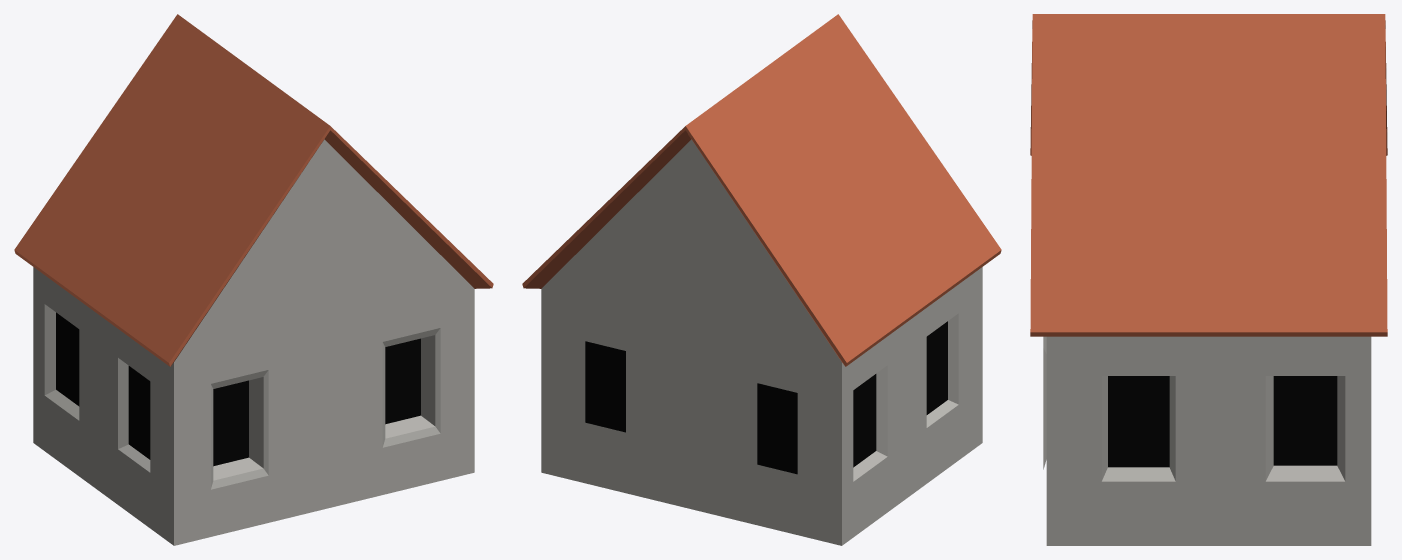
File: house3.fbx
3 renders of one model, left to right at view 1: azimuth 30°, elevation 25°; view 2: azimuth 150°, elevation 25°; view 3: azimuth 270°, elevation 25°, orthographic. The views are drawn at different scales.
Parts seen in each view (by area): view 1: house3; view 2: house3; view 3: house3.
Boxes of the visible parts, box(x1,y1,x2,y2) form: house3: box(14, 14, 493, 545); house3: box(522, 14, 1001, 545); house3: box(1030, 14, 1387, 545).
Size of the model in its own units: 3947 by 4506 by 3259.
